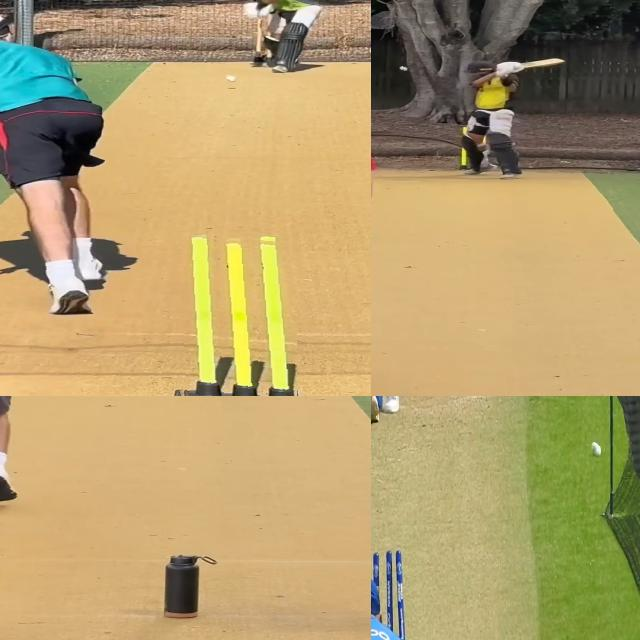Cricket ball: (589, 439, 602, 460), (224, 74, 238, 84), (398, 65, 410, 71)
Stumps: (171, 233, 296, 396)
